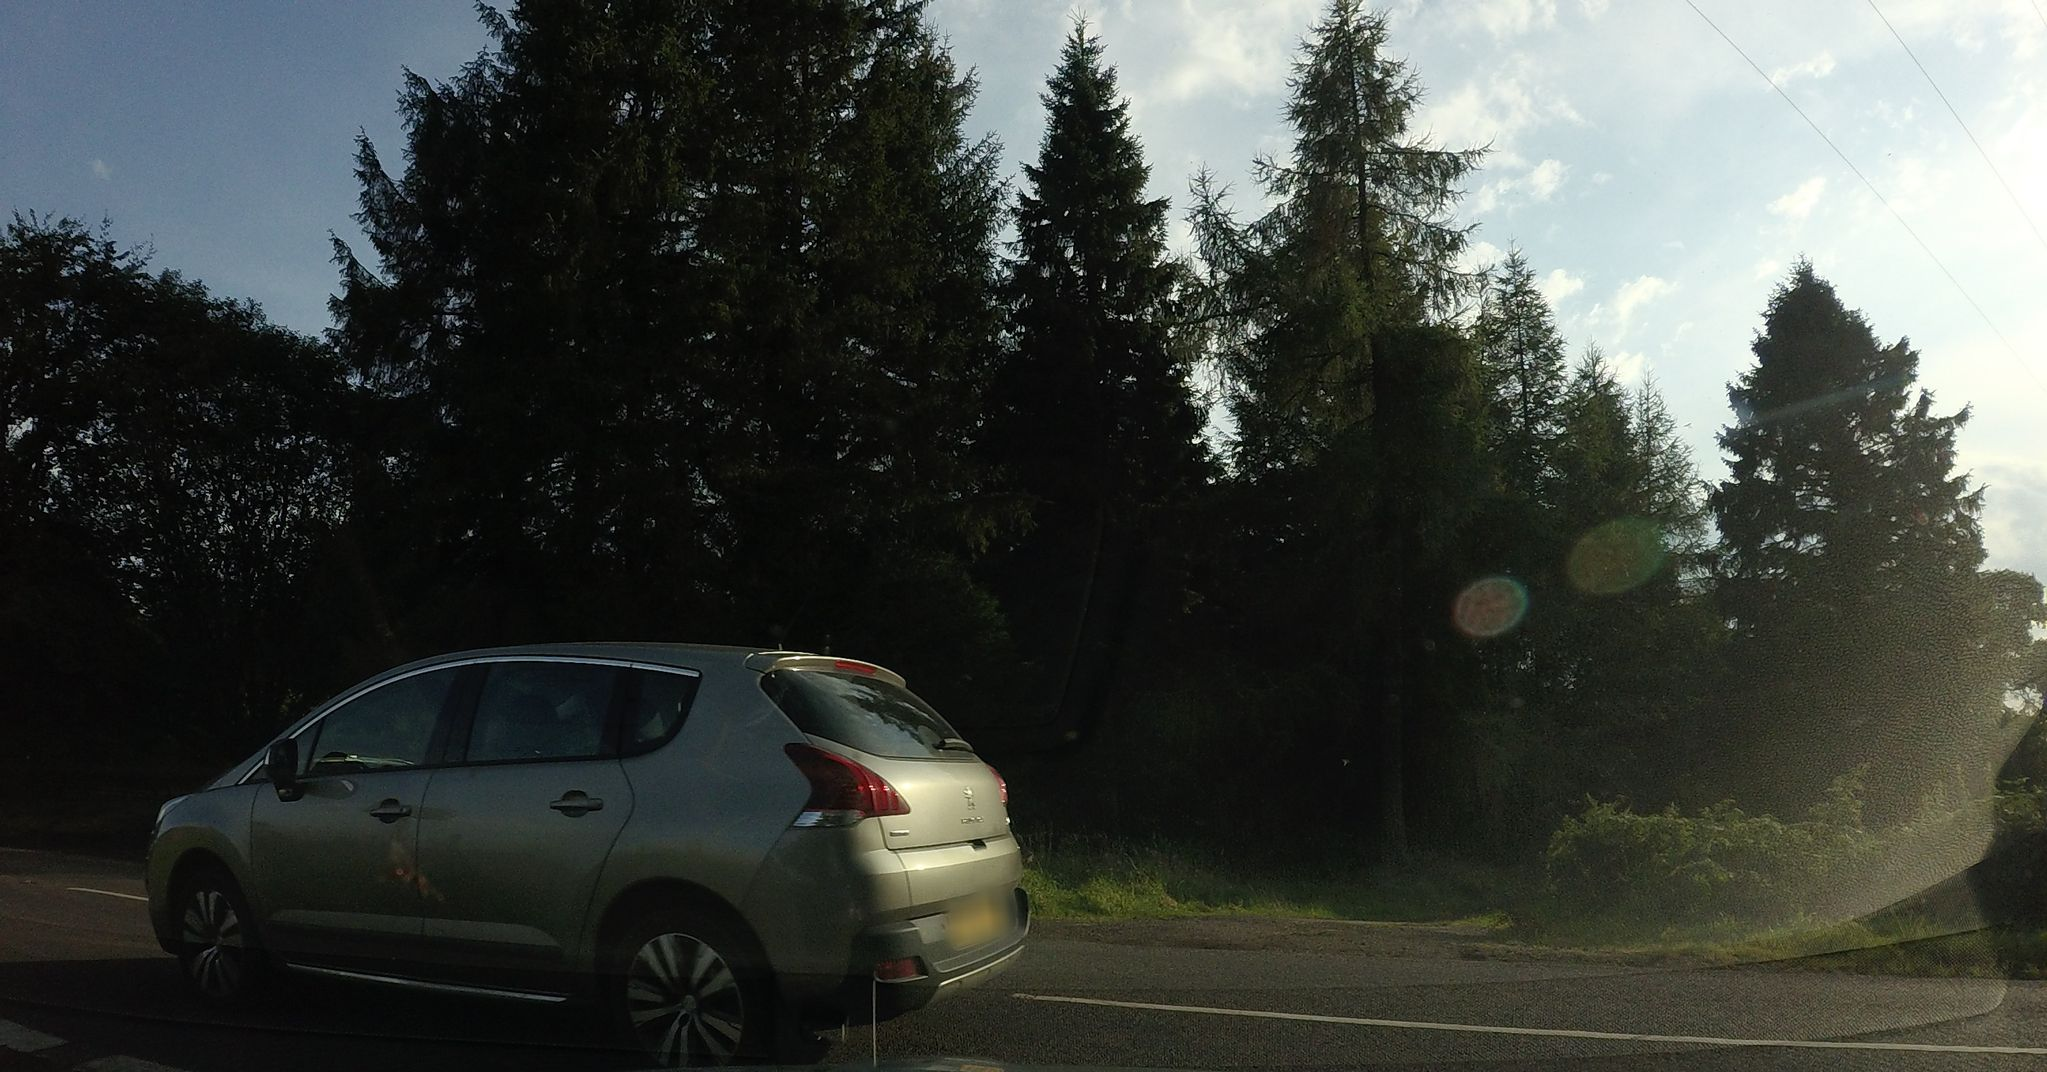car: (144, 640, 1034, 1063)
